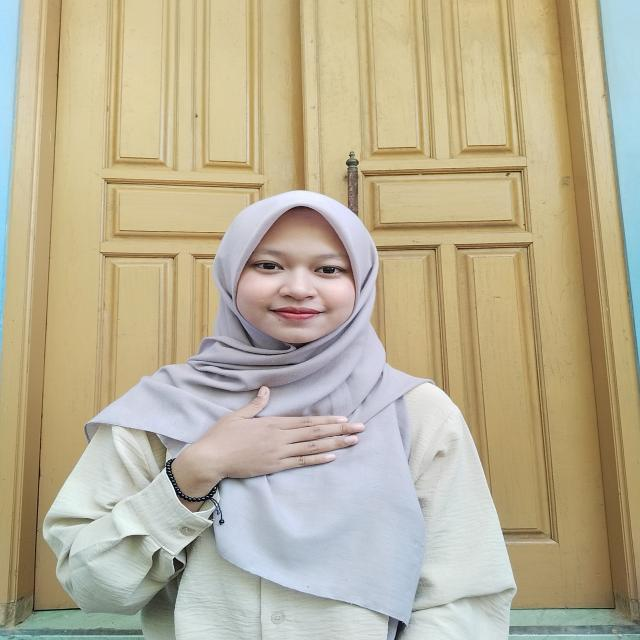tolong: (133, 385, 369, 513)
